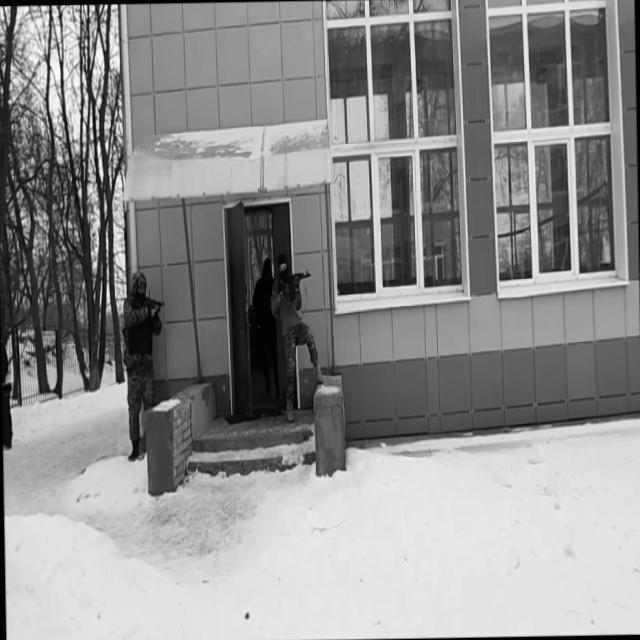gun: (131, 294, 166, 322), (277, 268, 312, 295)
person: (250, 255, 278, 392)
person with a gun: (120, 270, 170, 462), (270, 251, 324, 423)
